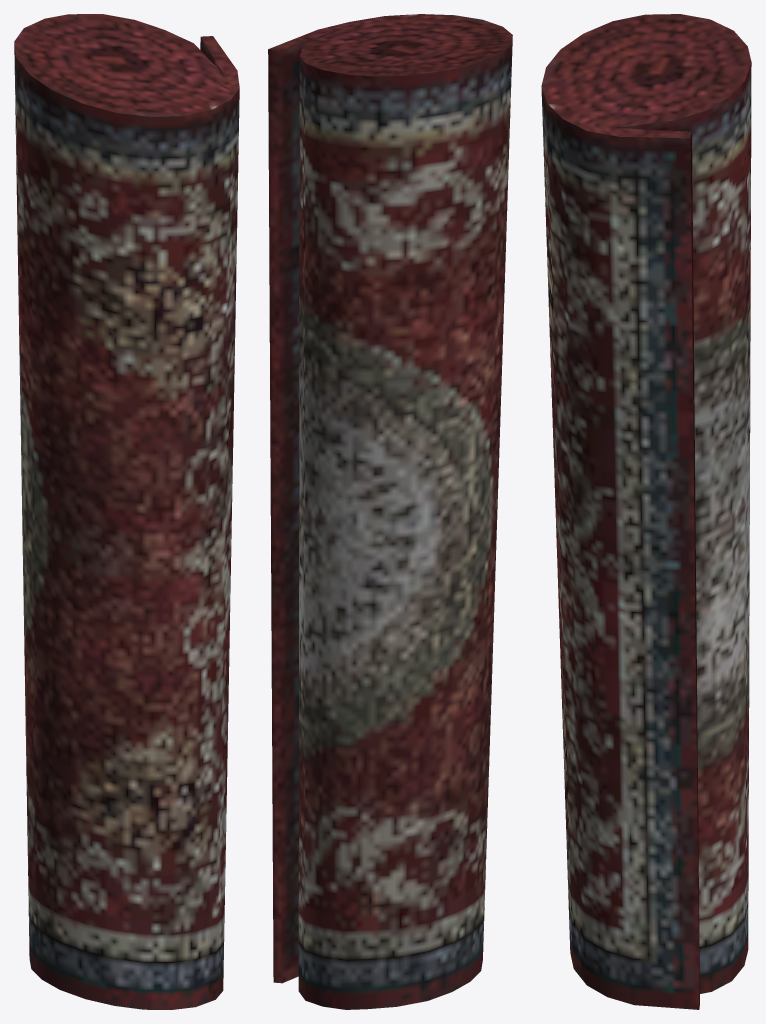
The model's file is 157_Carpet.fbx.
3 views of the same model, side by side, from view 1: azimuth 30°, elevation 25°; view 2: azimuth 150°, elevation 25°; view 3: azimuth 270°, elevation 25° (orthographic). The views are drawn at different scales.
Visible parts, largest first — view 1: LOD_1_Group_0_Sub_1__sm30_157_Carpet05A_A_Mat; view 2: LOD_1_Group_0_Sub_1__sm30_157_Carpet05A_A_Mat; view 3: LOD_1_Group_0_Sub_1__sm30_157_Carpet05A_A_Mat.
Part boxes in pixels (<box>): LOD_1_Group_0_Sub_1__sm30_157_Carpet05A_A_Mat: <box>14,14,239,1009</box>; LOD_1_Group_0_Sub_1__sm30_157_Carpet05A_A_Mat: <box>268,14,512,1009</box>; LOD_1_Group_0_Sub_1__sm30_157_Carpet05A_A_Mat: <box>541,14,751,1009</box>.
Bounding box in the file's own units: 0.3443 × 1.51 × 0.3171.
